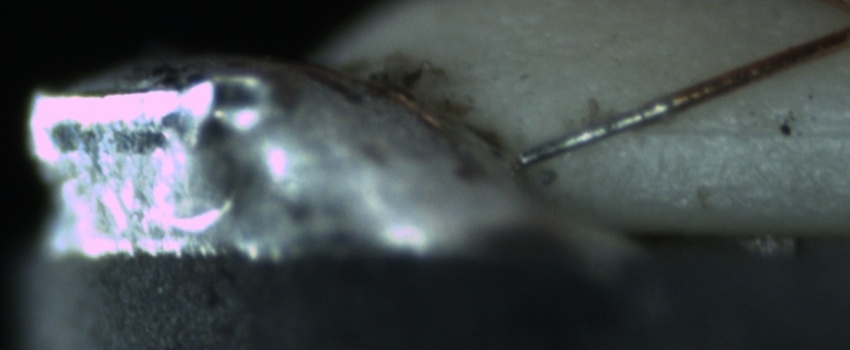DL: (618, 102, 850, 166)
TS: (517, 99, 671, 168)
